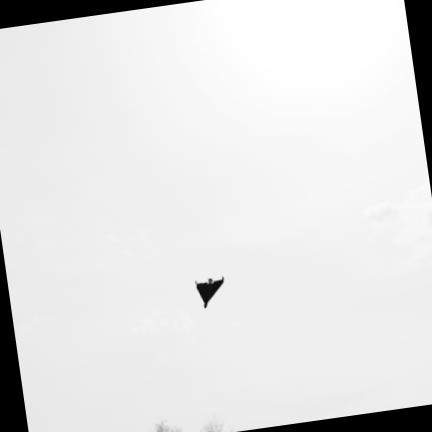Shahed: (195, 277, 223, 307)
